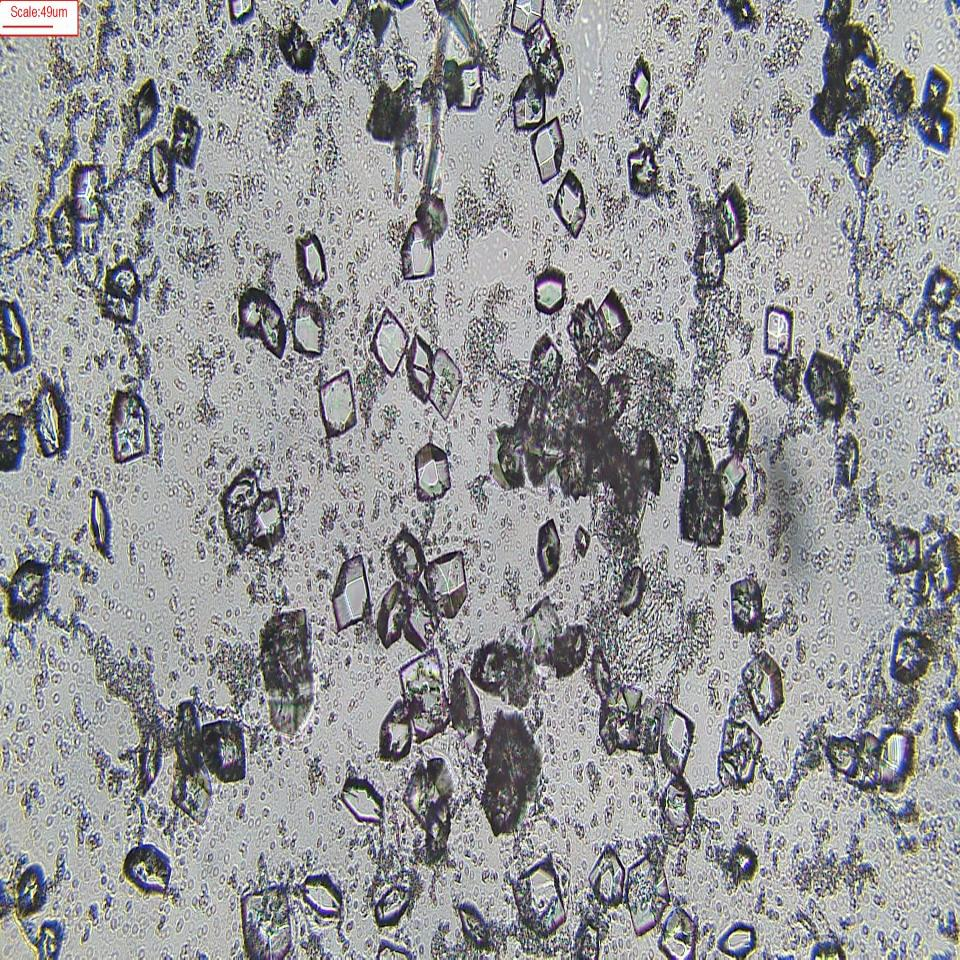crystal: (394, 652, 456, 742), (237, 878, 302, 960), (261, 616, 315, 695), (108, 384, 154, 471), (624, 852, 676, 926), (328, 553, 372, 635), (516, 858, 564, 931), (658, 770, 700, 851), (100, 258, 146, 330), (317, 366, 359, 444), (808, 348, 852, 420), (134, 704, 166, 797), (202, 719, 248, 783), (713, 183, 753, 256), (6, 558, 52, 621), (657, 701, 693, 778), (743, 654, 784, 720), (624, 140, 661, 213), (524, 17, 560, 92), (399, 220, 438, 285), (876, 727, 913, 794), (290, 297, 328, 362), (429, 349, 465, 417), (551, 165, 586, 234), (122, 844, 172, 892), (567, 295, 603, 361), (341, 776, 384, 830), (372, 308, 408, 372), (298, 873, 345, 922), (426, 556, 467, 612), (659, 902, 698, 960), (171, 692, 197, 778), (412, 441, 451, 498), (589, 847, 625, 907), (376, 701, 410, 763), (74, 161, 106, 225), (892, 633, 933, 682), (760, 304, 797, 358), (384, 521, 419, 578), (34, 387, 63, 454), (917, 263, 957, 311), (596, 288, 629, 346), (724, 395, 756, 454), (167, 109, 200, 166), (716, 919, 761, 960), (533, 121, 564, 180), (15, 861, 46, 920), (296, 235, 329, 290), (845, 126, 872, 193), (378, 578, 402, 653), (404, 330, 431, 396), (614, 564, 647, 618), (692, 229, 724, 284), (514, 72, 544, 130), (87, 492, 112, 561), (368, 885, 414, 922), (455, 901, 488, 952), (529, 266, 565, 312), (729, 577, 761, 628), (132, 77, 159, 135), (148, 141, 173, 202), (537, 521, 563, 579), (457, 60, 483, 118), (625, 62, 650, 118), (836, 434, 857, 489), (728, 843, 758, 881), (575, 524, 590, 564)
not_crystal: (574, 375, 657, 534), (493, 382, 581, 490), (218, 471, 284, 553), (237, 285, 284, 352), (472, 643, 529, 697)
